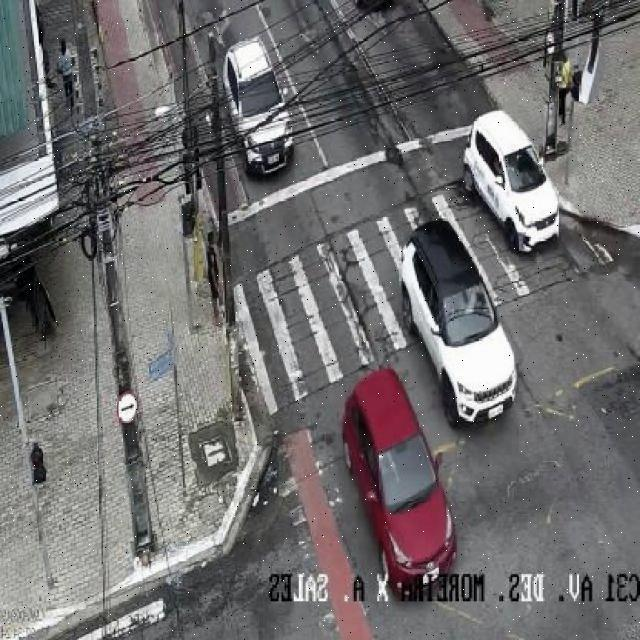Car: (341, 367, 459, 598), (400, 221, 519, 429), (462, 110, 562, 250), (221, 36, 296, 180)
